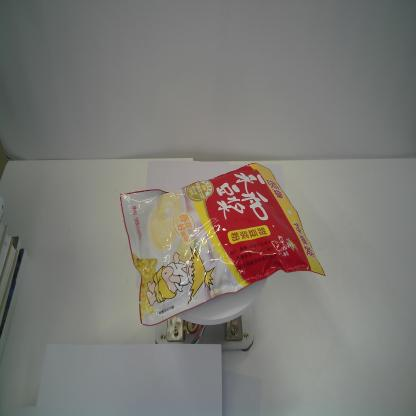Instant Drink: (117, 161, 327, 327)
